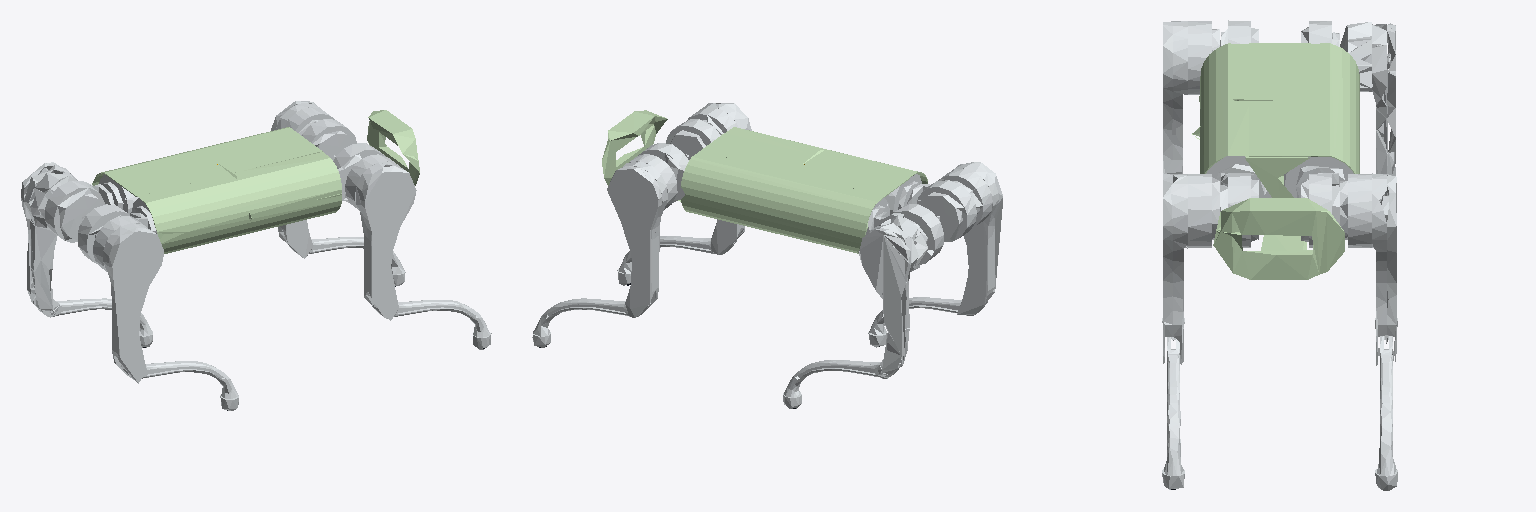
URDF robot description (dogVLAI):
<?xml version="1.0" encoding="utf-8"?>
<robot
  name="dogVLAI">
  <material name="orange">
    <!-- <color rgba="1.0 0.423529411765 0.0392156862745 1.0"/> -->
    <color rgba= "0.12 0.15 0.2 1.0" />
  </material>
  <link name="base">
    <visual>
      <origin rpy="0 0 0" xyz="0 0 0"/>
      <geometry>
        <box size="0.001 0.001 0.001"/>
      </geometry>
    </visual>
  </link>
  <joint name="floating_base" type="fixed">
    <origin rpy="0 0 0" xyz="0 0 0"/>
    <parent link="base"/>
    <child link="base_link"/>
  </joint>
  <link
    name="base_link">
    <inertial>
      <origin
        xyz="0.086664 -0.0025651 -0.05017" 
        rpy="0 0 0" />  <!-- xyz="0.086664 -0.0025651 -0.050178" -->
      <mass
        value="3.432" />
      <inertia
        ixx="0.0039586"
        ixy="-2.0768E-07"
        ixz="1.2596E-05"
        iyy="0.0079714"
        iyz="-1.4174E-06"
        izz="0.00896" />
    </inertial>
    <visual>
      <origin
        xyz="0 0 0"
        rpy="0 0 0" />
      <geometry>
        <mesh
          filename="../meshes/base_link.STL" />
      </geometry>
      <material name="red">
        <color
          rgba="0.8 0.9 0.75294 1" />
      </material>
    </visual>
    <collision>
      <origin
        xyz="0 0 0"
        rpy="0 0 0" />
      <geometry>
        <mesh
          filename="../meshes/base_link.STL" />
       <!-- <box size="0.45 0.35 0.14"/> -->
      </geometry>
    </collision>
  </link>
  <joint name="imu_joint" type="fixed">
    <parent link="base_link"/>
    <child link="imu_link"/>
    <origin rpy="0 0 0" xyz="0 0 0"/>
  </joint>
  <link name="imu_link">
    <inertial>
      <mass value="0.001"/>
      <origin rpy="0 0 0" xyz="0 0 0"/>
      <inertia ixx="0.0001" ixy="0" ixz="0" iyy="0.000001" iyz="0" izz="0.0001"/>
    </inertial>
    <visual>
      <origin rpy="0 0 0" xyz="0 0 0"/>
      <geometry>
        <box size="0.001 0.001 0.001"/>
      </geometry>
      <material name="red"/>
    </visual>
    <collision>
      <origin rpy="0 0 0" xyz="0 0 0"/>
      <geometry>
        <box size=".001 .001 .001"/>
      </geometry>
    </collision>
  </link>
 
  <joint name="FL1_hip_joint"
    type="revolute">
    <origin
      xyz="0.168999872360919 0.0520307406591373 -0.0485"
      rpy="0 0 0" />
    <parent
      link="base_link" />
    <child
      link="FL1_hip_link" />
    <axis
      xyz="1 0 0" />
    <limit
      lower="-0.873"
      upper="0.8"
      effort="35"
      velocity="20" />
  </joint>
  <link  name="FL1_hip_link">
    <inertial>
      <origin
        xyz="0.016891 -0.0002017 1.0145E-12"
        rpy="0 0 0" />
      <mass
        value="1.5778" />
      <inertia
        ixx="0.00126391"
        ixy="-7.9E-06"
        ixz="-3.0138E-15"
        iyy="0.0012658"
        iyz="9.6059E-15"
        izz="0.0010036" />
    </inertial>
    <visual>
      <origin
        xyz="0 0 0"
        rpy="0 0 0" />
      <geometry>
        <mesh
          filename="../meshes/leg_FL1_link.STL" />
      </geometry>
      <material name="red">
        <color
          rgba="0.89804 0.91765 0.92941 1" />
      </material>
    </visual>
  </link>
  <joint name="FL2_thigh_joint"
    type="revolute">
    <origin
      xyz="0.06 0.0245 0"
      rpy="0 0 0" />
    <parent
      link="FL1_hip_link" />
    <child
      link="FL2_thigh_link" />
    <axis
      xyz="0 1 0" />
    <limit
      lower="-0.524"
      upper="3.927"
      effort="35"
      velocity="20" />
  </joint>
  <link
    name="FL2_thigh_link">
    <inertial>
      <origin
        xyz="-0.0020653 0.035858 -0.014157"
        rpy="0 0 0" />
      <mass
        value="1.1111" />
      <inertia
        ixx="0.0021475"
        ixy="1.1491E-06"
        ixz="-9.6247E-05"
        iyy="0.0025741"
        iyz="1.4002E-05"
        izz="0.00068032" />
    </inertial>
    <visual>
      <origin
        xyz="0 0 0"
        rpy="0 0 0" />
      <geometry>
        <mesh
          filename="../meshes/leg_FL2_link.STL" />
      </geometry>
      <material name="red" >
        <color
          rgba="0.89804 0.91765 0.92941 1" />
      </material>
    </visual>
     <!-- <collision> -->
      <!-- <origin
        xyz="0 0.06 -0.08"
        rpy="0 -1.57 0" /> -->
      <!-- <origin
        xyz="0 0 0"
        rpy="0 0 0" /> 
      <geometry> -->
          <!-- <box size="0.2 0.025 0.08"/> -->
          <!-- <mesh
          filename="../meshes/leg_FL2_link.STL" />
      </geometry>
    </collision> -->
  </link>
  <joint
    name="FL3_calf_joint" type="revolute">
    <origin
      xyz="0.0025 0.0584 -0.19998"
      rpy="0 0 0" />
    <parent
      link="FL2_thigh_link" />
    <child
      link="FL3_calf_link" />
    <axis
      xyz="0 1 0" />
    <limit
      lower="-1.5"
      upper="0.6"
      effort="35"
      velocity="20" />
  </joint>
  <link
    name="FL3_calf_link">
    <inertial>
      <origin
        xyz="0.10213 0.00074994 -0.040058"
        rpy="0 0 0" />
      <mass
        value="0.17626" />
      <inertia
        ixx="9.9523E-05"
        ixy="1.0973E-09"
        ixz="0.00020491"
        iyy="0.00066828"
        iyz="-7.8833E-10"
        izz="0.0005781" />
    </inertial>
    <visual>
      <origin
        xyz="0 0 0"
        rpy="0 0 0" />
      <geometry>
        <mesh
          filename="../meshes/leg_FL3_link.STL" />
      </geometry>
      <material
         name="red">
        <color
          rgba="0.89804 0.91765 0.92941 1" />
      </material>
    </visual>
    <collision>
      <origin
        xyz="0.0 0 0.0"
        rpy="0 0 0" /> 
      <geometry>
      <mesh
          filename="../meshes/leg_FL3_link.STL" />
           <!-- <box size="0.2 0.016 0.016"/> -->
      </geometry>
    </collision>
  </link>
  <joint name="FL_foot_fixed" type="fixed" dont_collapse="true">
    <origin rpy="0 0 0" xyz="0.17 0 -0.1"/>
    <parent link="FL3_calf_link"/>
    <child link="FL_foot"/>
  </joint>
  <link name="FL_foot">
    <visual>
      <origin rpy="0 0 0" xyz="0 0 0"/>
      <geometry>
        <sphere radius="0.01"/>
      </geometry>
      <material name="orange"/>
    </visual>
    <collision>
      <origin rpy="0 0 0" xyz="0 0 0"/>
      <geometry>
        <sphere radius="0.015"/>
      </geometry>
    </collision>
    <inertial>
      <mass value="0.06"/>
      <inertia ixx="9.6e-06" ixy="0.0" ixz="0.0" iyy="9.6e-06" iyz="0.0" izz="9.6e-06"/>
    </inertial> 
  </link>

  <joint name="FR1_hip_joint"  type="revolute">
    <origin
     xyz="0.168999872360919 -0.0519692593408627 -0.0485"
     rpy="0 0 0" />
    <parent
     link="base_link" />
    <child
     link="FR1_hip_link" />
    <axis
     xyz="1 0 0" />
    <dynamics damping="0" friction="0"/>
    <limit
     lower="-0.873"
     upper="0.8"
     effort="35"
     velocity="20" />
  </joint>
 <link name="FR1_hip_link">
   <inertial>
     <origin
       xyz="0.016891 0.0002017 -1.0145E-12"
       rpy="0 0 0" />
     <mass
       value="1.5778" />
     <inertia
       ixx="0.0012639"
       ixy="7.9E-06"
       ixz="2.9922E-15"
       iyy="0.0012658"
       iyz="9.626E-15"
       izz="0.0010036" />
   </inertial>
   <visual>
     <origin
       xyz="0 0 0"
       rpy="0 0 0" />
     <geometry>
       <mesh
         filename="../meshes/leg_FR1_link.STL" />
     </geometry>
     <material name="red"> 
       <color
         rgba="0.89804 0.91765 0.92941 1" />
     </material>
   </visual>
 </link>
 <joint name="FR2_thigh_joint" type="revolute">
   <origin
     xyz="0.06 -0.024225 -0.0036585"
     rpy="0 0 0" />
   <parent
     link="FR1_hip_link" />
   <child
     link="FR2_thigh_link" />
   <axis
     xyz="0 1 0" />
   <limit
     lower="-0.524"
     upper="3.927"
     effort="35"
     velocity="20" />
 </joint>
 <link  name="FR2_thigh_link">
   <inertial>
     <origin
       xyz="-0.0020653 -0.035858 -0.014157"
       rpy="0 0 0" />
     <mass
       value="1.1376" />
     <inertia
       ixx="0.0022579"
       ixy="-1.8557E-06"
       ixz="-0.00010245"
       iyy="0.0026941"
       iyz="-1.6441E-05"
       izz="0.00069081" />
   </inertial>
   <visual>
     <origin
       xyz="0 0 0"
       rpy="0 0 0" />
     <geometry>
       <mesh
         filename="../meshes/leg_FR2_link.STL" />
     </geometry>
     <material name="red">
       <color
         rgba="0.89804 0.91765 0.92941 1" />
     </material>
   </visual>
   <!-- <collision>
     <origin
       xyz="0 0 0"
       rpy="0 0 0" /> 
     <geometry>
        <mesh
         filename="../meshes/leg_FR2_link.STL" /> -->
         <!-- <box size="0.2 0.025 0.08"/> -->
     <!-- </geometry>
   </collision> -->
 </link>
 <joint
   name="FR3_calf_joint"
   type="revolute">
   <origin
     xyz="0.0025 -0.059525 -0.19632"
     rpy="0 0 0" />
   <parent
     link="FR2_thigh_link" />
   <child
     link="FR3_calf_link" />
   <axis
     xyz="0 1 0" />
   <limit
     lower="-1.5"
     upper="0.6"
     effort="35"
     velocity="20" />
 </joint>
 <link name="FR3_calf_link">
   <inertial>
     <origin
       xyz="0.10213 0.00074994 -0.040058"
       rpy="0 0 0" />
     <mass
       value="0.17626" />
     <inertia
       ixx="9.9523E-05"
       ixy="1.0973E-09"
       ixz="0.00020491"
       iyy="0.00066828"
       iyz="-7.8833E-10"
       izz="0.0005781" />
   </inertial>
   <visual>
     <origin
       xyz="0 0 0"
       rpy="0 0 0" />
     <geometry>
       <mesh
         filename="../meshes/leg_FR3_link.STL" />
     </geometry>
     <material name="red">
        
       <color
         rgba="0.89804 0.91765 0.92941 1" />
     </material>
   </visual>
   <collision>
      <origin
       xyz="0.0 0 0.0"
       rpy="0 0 0" /> 
     <!-- <origin
       xyz="0.09 0 -0.05"
       rpy="0 0.4 0" /> -->
     <geometry>
       <mesh
         filename="../meshes/leg_FR3_link.STL" />
          <!-- <box size="0.2 0.016 0.016"/> -->
     </geometry>
   </collision>
 </link>
  <joint name="FR_foot_fixed" type="fixed" dont_collapse="true">
   <origin rpy="0 0 0" xyz="0.17 0 -0.1"/>
   <parent link="FR3_calf_link"/>
   <child link="FR_foot"/>
 </joint>
 <link name="FR_foot">
   <visual>
     <origin rpy="0 0 0" xyz="0 0 0"/>
     <geometry>
       <sphere radius="0.01"/>
     </geometry>
     <material name="orange"/>
   </visual>
   <collision>
     <origin rpy="0 0 0" xyz="0 0 0"/>
     <geometry>
       <sphere radius="0.015"/>
     </geometry>
   </collision>
   <inertial>
     <mass value="0.06"/>
     <inertia ixx="9.6e-06" ixy="0.0" ixz="0.0" iyy="9.6e-06" iyz="0.0" izz="9.6e-06"/>
   </inertial> 
 </link>

  <joint
    name="RL1_hip_joint"
    type="revolute">
    <origin
      xyz="-0.169000127639083 0.0519707406591368 -0.048525"
      rpy="0 0 0" />
    <parent
      link="base_link" />
    <child
      link="RL1_hip_link" />
    <axis
      xyz="1 0 0" />
    <limit
      lower="-0.873"
      upper="0.8"
      effort="35"
      velocity="20" />
  </joint>
  <link
    name="RL1_hip_link">
    <inertial>
      <origin
        xyz="-0.016891 -0.0002017 -1.0162E-12"
        rpy="0 0 0" />
      <mass
        value="1.5778" />
      <inertia
        ixx="0.0012639"
        ixy="7.9E-06"
        ixz="-3.0226E-15"
        iyy="0.0012658"
        iyz="-1.0631E-14"
        izz="0.0010036" />
    </inertial>
    <visual>
      <origin
        xyz="0 0 0"
        rpy="0 0 0" />
      <geometry>
        <mesh
          filename="../meshes/leg_BL1_link.STL" />
      </geometry>
      <material name="red">
        <color
          rgba="0.89804 0.91765 0.92941 1" />
      </material>
    </visual>
  </link>
  <joint
    name="RL2_thigh_joint"
    type="revolute">
    <origin
      xyz="-0.0600000002585732 0.0244999956993991 0"
      rpy="0 0 0" />
    <parent
      link="RL1_hip_link" />
    <child
      link="RL2_thigh_link" />
    <axis
      xyz="0 1 0" />
    <limit
      lower="-0.524"
      upper="3.927"
      effort="35"
      velocity="20" />
  </joint>
  <link
    name="RL2_thigh_link">
    <inertial>
      <origin
        xyz="-0.0020653 0.035858 -0.014157"
        rpy="0 0 0" />
      <mass
        value="1.1151" />
      <inertia
        ixx="0.0021439"
        ixy="1.1245E-06"
        ixz="-0.00011935"
        iyy="0.0025741"
        iyz="1.4766E-05"
        izz="0.00068394" />
    </inertial>
    <visual>
      <origin
        xyz="0 0 0"
        rpy="0 0 0" />
      <geometry>
        <mesh
          filename="../meshes/leg_BL2_link.STL" />
      </geometry>
      <material name="red">
        <color
          rgba="0.89804 0.91765 0.92941 1" />
      </material>
    </visual>
    <!-- <collision> -->
      <!-- <origin
        xyz="0 0.06 -0.08"
        rpy="0 -1.57 0" /> -->
      <!-- <origin
        xyz="0 0 0"
        rpy="0 0 0" /> 
      <geometry> -->
          <!-- <box size="0.2 0.025 0.08"/> -->
          <!-- <mesh
          filename="../meshes/leg_BL2_link.STL" />
      </geometry>
    </collision> -->
  </link>
  <joint
    name="RL3_calf_joint"
    type="revolute">
    <origin
      xyz="0.0025 0.0584 -0.19998"
      rpy="0 0 0" />
    <parent
      link="RL2_thigh_link" />
    <child
      link="RL3_calf_link" />
    <axis
      xyz="0 1 0" />
    <limit
      lower="-1.5"
      upper="0.6"
      effort="35"
      velocity="20" />
  </joint>
  <link
    name="RL3_calf_link">
    <inertial>
      <origin
        xyz="0.10213 0.00074994 -0.040058"
        rpy="0 0 0" />
      <mass
        value="0.17626" />
      <inertia
        ixx="9.9523E-05"
        ixy="1.0973E-09"
        ixz="0.00020491"
        iyy="0.00066828"
        iyz="-7.8833E-10"
        izz="0.0005781" />
    </inertial>
    <visual>
      <origin
        xyz="0 0 0"
        rpy="0 0 0" />
      <geometry>
        <mesh
          filename="../meshes/leg_BL3_link.STL" />
      </geometry>
      <material name="red"
         >
        <color
          rgba="0.89804 0.91765 0.92941 1" />
      </material>
    </visual>
    <collision>
      <origin
        xyz="0.0 0 0.0"
        rpy="0 0 0" /> 
      <geometry>
           <!-- <box size="0.2 0.016 0.016"/> -->
            <mesh
          filename="../meshes/leg_BL3_link.STL" />
      </geometry>
    </collision>
  </link>
  <joint name="RL_foot_fixed" type="fixed" dont_collapse="true">
    <origin rpy="0 0 0" xyz="0.17 0 -0.1"/>
    <parent link="RL3_calf_link"/>
    <child link="RL_foot"/>
  </joint>
  <link name="RL_foot">
    <visual>
      <origin rpy="0 0 0" xyz="0 0 0"/>
      <geometry>
        <sphere radius="0.01"/>
      </geometry>
      <material name="orange"/>
    </visual>
    <collision>
      <origin rpy="0 0 0" xyz="0 0 0"/>
      <geometry>
        <sphere radius="0.015"/>
      </geometry>
    </collision>
    <inertial>
      <mass value="0.06"/>
      <inertia ixx="9.6e-06" ixy="0.0" ixz="0.0" iyy="9.6e-06" iyz="0.0" izz="9.6e-06"/>
    </inertial> 
  </link>
   <joint
    name="RR1_hip_joint"
    type="revolute">
    <origin
      xyz="-0.169 -0.052029 -0.048525"
      rpy="0 0 0" />
    <parent
      link="base_link" />
    <child
      link="RR1_hip_link" />
    <axis
      xyz="1 0 0" />
    <limit
      lower="-0.873"
      upper="0.8"
      effort="35"
      velocity="20" />
  </joint>
  <link
    name="RR1_hip_link">
    <inertial>
      <origin
        xyz="-0.016891 0.0002017 -1.0145E-12"
        rpy="0 0 0" />
      <mass
        value="1.5778" />
      <inertia
        ixx="0.0012639"
        ixy="-7.9E-06"
        ixz="3.5824E-15"
        iyy="0.0012658"
        iyz="-2.8475E-14"
        izz="0.0010036" />
    </inertial>
    <visual>
      <origin
        xyz="0 0 0"
        rpy="0 0 0" />
      <geometry>
        <mesh
          filename="../meshes/leg_BR1_link.STL" />
      </geometry>
      <material name="red" >
        <color
          rgba="0.89804 0.91765 0.92941 1" />
      </material>
    </visual>
  </link>
  <joint
    name="RR2_thigh_joint"
    type="revolute">
    <origin
      xyz="-0.06 -0.0245 0"
      rpy="0 0 0" />
    <parent
      link="RR1_hip_link" />
    <child
      link="RR2_thigh_link" />
    <axis
      xyz="0 1 0" />
    <limit
      lower="-0.524"
      upper="3.927"
      effort="35"
      velocity="20" />
  </joint>
  <link
    name="RR2_thigh_link">
    <inertial>
      <origin
        xyz="-0.0020653 -0.03588 -0.014157"
        rpy="0 0 0" />
      <mass
        value="1.1376" />
      <inertia
        ixx="0.0022531"
        ixy="-1.694E-06"
        ixz="-0.00012534"
        iyy="0.0026941"
        iyz="-1.5693E-05"
        izz="0.00069561" />
    </inertial>
    <visual>
      <origin
        xyz="0 0 0"
        rpy="0 0 0" />
      <geometry>
        <mesh
          filename="../meshes/leg_BR2_link.STL" />
      </geometry>
      <material name="red" >
        <color
          rgba="0.89804 0.91765 0.92941 1" />
      </material>
    </visual>
    <!-- <collision> -->
      <!-- <origin
        xyz="0 -0.06 -0.08"
        rpy="0 -1.57 0" /> -->
      <!-- <origin
        xyz="0 0 0"
        rpy="0 0 0" /> 
      <geometry> -->
          <!-- <box size="0.2 0.025 0.08"/> -->
          <!-- <mesh
          filename="../meshes/leg_BR2_link.STL" />
      </geometry>
    </collision> -->
  </link>
  <joint
    name="RR3_calf_joint"
    type="revolute">
    <origin
      xyz="0.0025 -0.05925 -0.19998"
      rpy="0 0 0" />
    <parent
      link="RR2_thigh_link" />
    <child
      link="RR3_calf_link" />
    <axis
      xyz="0 1 0" />
    <limit
      lower="-1.5"
      upper="0.6"
      effort="35"
      velocity="20" />
  </joint>
  <link
    name="RR3_calf_link">
    <inertial>
      <origin
        xyz="0.10213 0.00074994 -0.040058"
        rpy="0 0 0" />
      <mass
        value="0.17626" />
      <inertia
        ixx="9.9523E-05"
        ixy="1.0973E-09"
        ixz="0.00020491"
        iyy="0.00066828"
        iyz="-7.8833E-10"
        izz="0.0005781" />
    </inertial>
    <visual>
      <origin
        xyz="0 0 0"
        rpy="0 0 0" />
      <geometry>
        <mesh
          filename="../meshes/leg_BR3_link.STL" />
      </geometry>
      <material name="red" >
        <color
          rgba="0.89804 0.91765 0.92941 1" />
      </material>
    </visual>
    <collision>
      <origin
        xyz="0.0 0 0.0"
        rpy="0 0 0" /> 
      <geometry>
        <mesh
          filename="../meshes/leg_BR3_link.STL" />
           <!-- <box size="0.2 0.016 0.016"/> -->
      </geometry>
    </collision>
  </link>
  <joint name="RR_foot_fixed" type="fixed" dont_collapse="true">
    <origin rpy="0 0 0" xyz="0.17 0 -0.1"/>
    <parent link="RR3_calf_link"/>
    <child link="RR_foot"/>
  </joint>
  <link name="RR_foot">
    <visual>
      <origin rpy="0 0 0" xyz="0 0 0"/>
      <geometry>
        <sphere radius="0.01"/>
      </geometry>
      <material name="orange"/>
    </visual>
    <collision>
      <origin rpy="0 0 0" xyz="0 0 0"/>
      <geometry>
        <sphere radius="0.015"/>
      </geometry>
    </collision>
    <inertial>
      <mass value="0.06"/>
      <inertia ixx="9.6e-06" ixy="0.0" ixz="0.0" iyy="9.6e-06" iyz="0.0" izz="9.6e-06"/>
    </inertial> 
  </link>
</robot>

--- Render facts (derived) ---
The picture shows the robot from 3 angles, left to right: view 1: azimuth 30°, elevation 25°; view 2: azimuth 150°, elevation 25°; view 3: azimuth 270°, elevation 25°; orthographic projection.
Robot: dogVLAI — 19 links, 18 joints (12 revolute, 6 fixed); root link base; default pose: all joints at 0.
Links seen in each view (by area): view 1: base_link, FR2_thigh_link, RR2_thigh_link, RL2_thigh_link, RL1_hip_link, FL2_thigh_link, RR1_hip_link, FR3_calf_link, RR3_calf_link, FL1_hip_link, RL3_calf_link, FL3_calf_link (+1 smaller); view 2: base_link, FL2_thigh_link, RL2_thigh_link, RR2_thigh_link, RR1_hip_link, FR2_thigh_link, RL1_hip_link, RL3_calf_link, FL3_calf_link, FR1_hip_link, RR3_calf_link, FR3_calf_link (+1 smaller); view 3: base_link, FR2_thigh_link, FL2_thigh_link, RR2_thigh_link, RL2_thigh_link, FL1_hip_link, FL3_calf_link, FR3_calf_link, FR1_hip_link, RR1_hip_link, RL1_hip_link.
Boxes of the visible links, <box> form: base_link: <box>92,110,419,253</box>; FR2_thigh_link: <box>345,154,416,320</box>; RR2_thigh_link: <box>93,216,163,383</box>; RL2_thigh_link: <box>21,162,77,314</box>; RL1_hip_link: <box>45,174,138,242</box>; FL2_thigh_link: <box>271,101,334,258</box>; RR1_hip_link: <box>78,198,156,263</box>; FR3_calf_link: <box>372,300,491,349</box>; RR3_calf_link: <box>120,361,238,410</box>; FL1_hip_link: <box>299,119,356,160</box>; RL3_calf_link: <box>33,296,152,347</box>; FL3_calf_link: <box>286,237,405,285</box>; base_link: <box>602,110,927,253</box>; FL2_thigh_link: <box>607,154,677,317</box>; RL2_thigh_link: <box>858,215,927,374</box>; RR2_thigh_link: <box>938,162,1002,314</box>; RR1_hip_link: <box>884,174,976,241</box>; FR2_thigh_link: <box>687,103,751,254</box>; RL1_hip_link: <box>865,198,943,264</box>; RL3_calf_link: <box>783,359,902,408</box>; FL3_calf_link: <box>532,298,650,347</box>; FR1_hip_link: <box>666,119,723,159</box>; RR3_calf_link: <box>868,297,987,347</box>; FR3_calf_link: <box>617,236,736,285</box>; base_link: <box>1192,43,1359,279</box>; FR2_thigh_link: <box>1163,173,1219,364</box>; FL2_thigh_link: <box>1340,173,1396,365</box>; RR2_thigh_link: <box>1163,21,1219,173</box>; RL2_thigh_link: <box>1340,22,1395,175</box>; FL1_hip_link: <box>1284,157,1353,247</box>; FL3_calf_link: <box>1375,336,1397,490</box>; FR3_calf_link: <box>1162,337,1184,489</box>; FR1_hip_link: <box>1206,156,1271,247</box>; RR1_hip_link: <box>1220,20,1258,46</box>; RL1_hip_link: <box>1301,21,1339,46</box>.
Size in the robot's own frame: 0.6953 by 0.3003 by 0.3623 metres.
13 mesh visuals loaded from 13 distinct referenced files (13 binary STL).